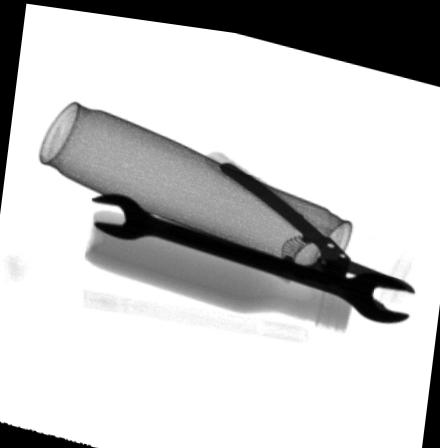Pliers: (149, 144, 415, 307)
Wrench: (90, 189, 416, 313)
